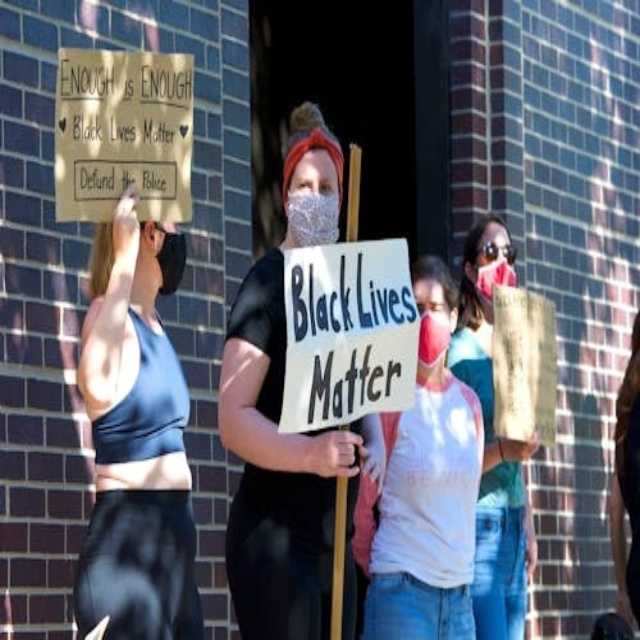Gafas: (474, 238, 520, 263)
Mascara: (285, 189, 340, 247), (150, 228, 187, 295), (417, 312, 453, 367), (475, 258, 517, 301)
Sin_gafas: (288, 173, 338, 192), (417, 288, 445, 313)
Sin_guantes: (309, 428, 364, 478), (108, 186, 143, 263), (358, 411, 388, 496), (497, 429, 540, 464)
